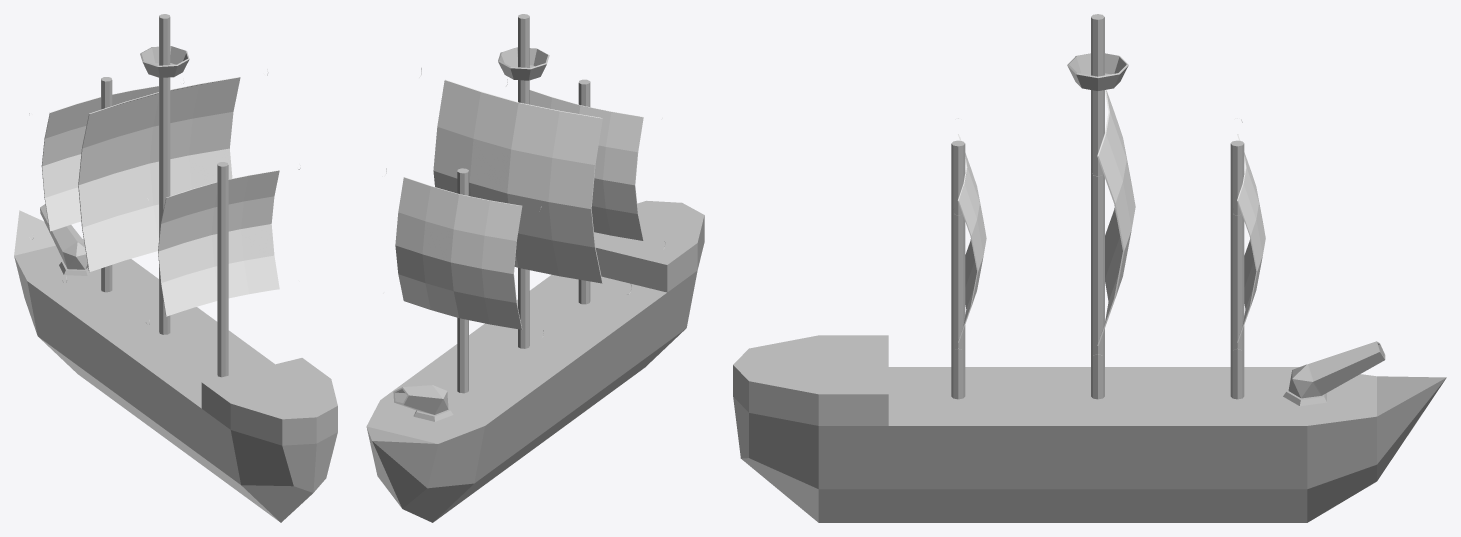
Rendered from BattleShip.fbx.
3 views of the same model, side by side, from view 1: azimuth 30°, elevation 25°; view 2: azimuth 150°, elevation 25°; view 3: azimuth 270°, elevation 25° (orthographic). The views are drawn at different scales.
Visible parts, largest first — view 1: Body, Sail, Sail_back, Sail_front, Cannon; view 2: Body, Sail, Sail_front, Sail_back, Cannon; view 3: Body, Sail, Cannon, Sail_front, Sail_back.
Part boxes in pixels (x1,y1,x2,y2): Body: [14, 14, 337, 522]; Sail: [62, 68, 268, 282]; Sail_back: [146, 165, 300, 324]; Sail_front: [29, 79, 184, 239]; Cannon: [40, 204, 92, 275]; Body: [366, 14, 704, 522]; Sail: [419, 68, 631, 294]; Sail_front: [383, 168, 543, 337]; Sail_back: [506, 79, 665, 249]; Cannon: [393, 385, 453, 421]; Body: [733, 14, 1446, 522]; Sail: [1092, 90, 1135, 355]; Cannon: [1283, 341, 1385, 406]; Sail_front: [1237, 118, 1265, 349]; Sail_back: [954, 118, 986, 348].
Size of the model in its own units: 400 by 800 by 1023.
